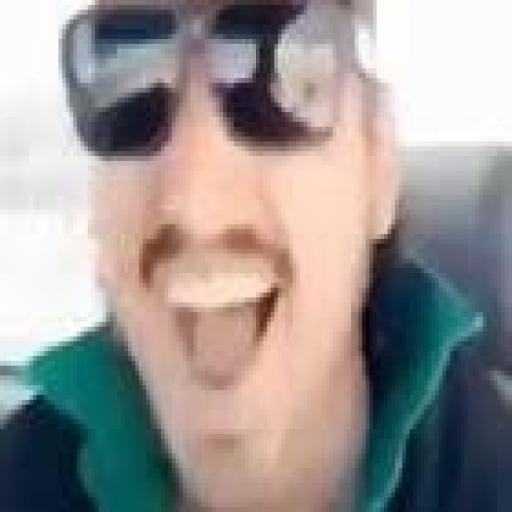laughing: (0, 0, 508, 507)
